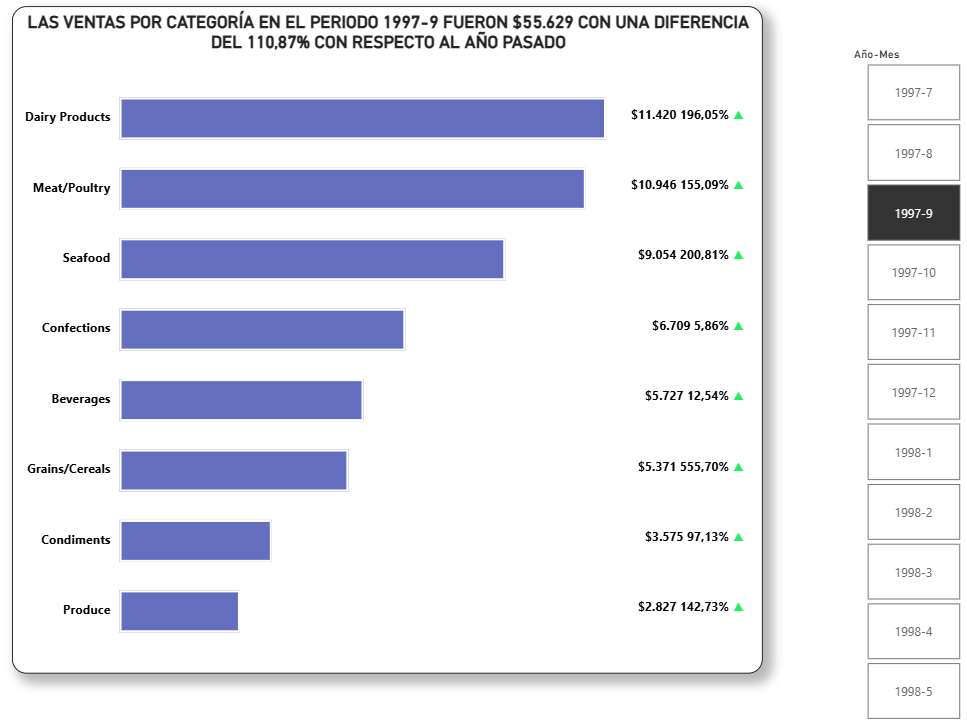

The page's visual inventory and layout, read from the dashboard file:
{"tool":"powerbi","page":{"name":"BARRA","canvas":[1280,720],"ordinal":1},"visuals":[{"type":"slicer","fields":{"Values":["CALENDARIO.Año-Mes"]},"box":[869,51.2,140.5,669],"z":1000},{"type":"clusteredBarChart","fields":{"Category":["Categories.CategoryName"],"Y":["MEDIDAS.MAX CATE SELE","MEDIDAS.VENTAS"]},"box":[59,16.1,734.7,652.5],"z":2000}]}

Visuals, with their boxes on the page's 1280x720 design canvas (x1, y1, x2, y2). These are canvas units, not pixel positions in the 967x722 screenshot, which may show the page scaled, cropped or inside an application window:
slicer - CALENDARIO.Año-Mes: x1=869, y1=51, x2=1010, y2=720
clusteredBarChart - Categories.CategoryName x MEDIDAS.MAX CATE SELE: x1=59, y1=16, x2=794, y2=669
